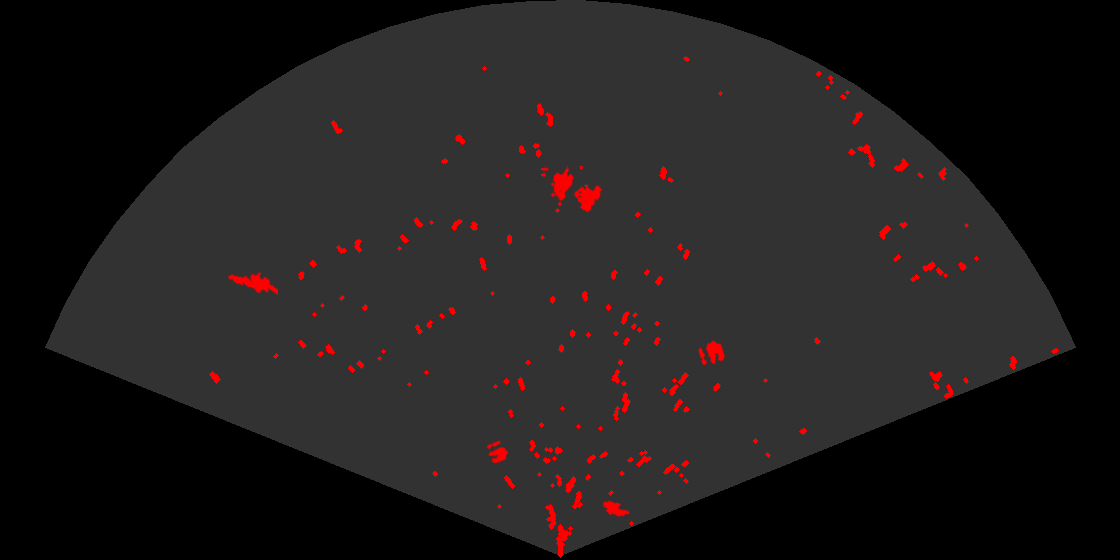AUV: (601, 499, 632, 519)
ball: (697, 339, 726, 367), (485, 439, 510, 465)
cage: (541, 166, 604, 214)
frogman: (225, 271, 278, 297)
